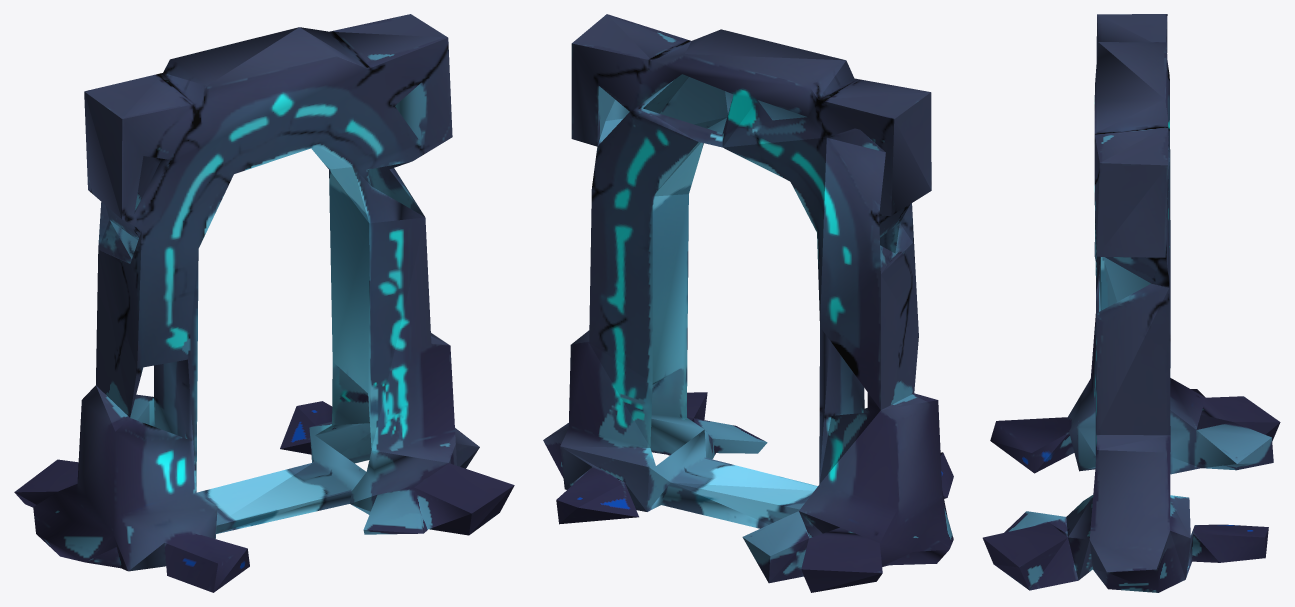
Rendered from portal-broken.glb.
The picture shows the model from 3 angles, left to right: view 1: azimuth 30°, elevation 25°; view 2: azimuth 150°, elevation 25°; view 3: azimuth 270°, elevation 25°; orthographic projection. The views are drawn at different scales.
Visible parts, largest first — view 1: geometry_0.001; view 2: geometry_0.001; view 3: geometry_0.001.
Part boxes in pixels (x1,y1,x2,y2): geometry_0.001: [14, 14, 514, 592]; geometry_0.001: [543, 14, 953, 592]; geometry_0.001: [982, 14, 1280, 592].
Size of the model in its own units: 0.935 by 1.01 by 0.6221.
1 material, 1 textured.
